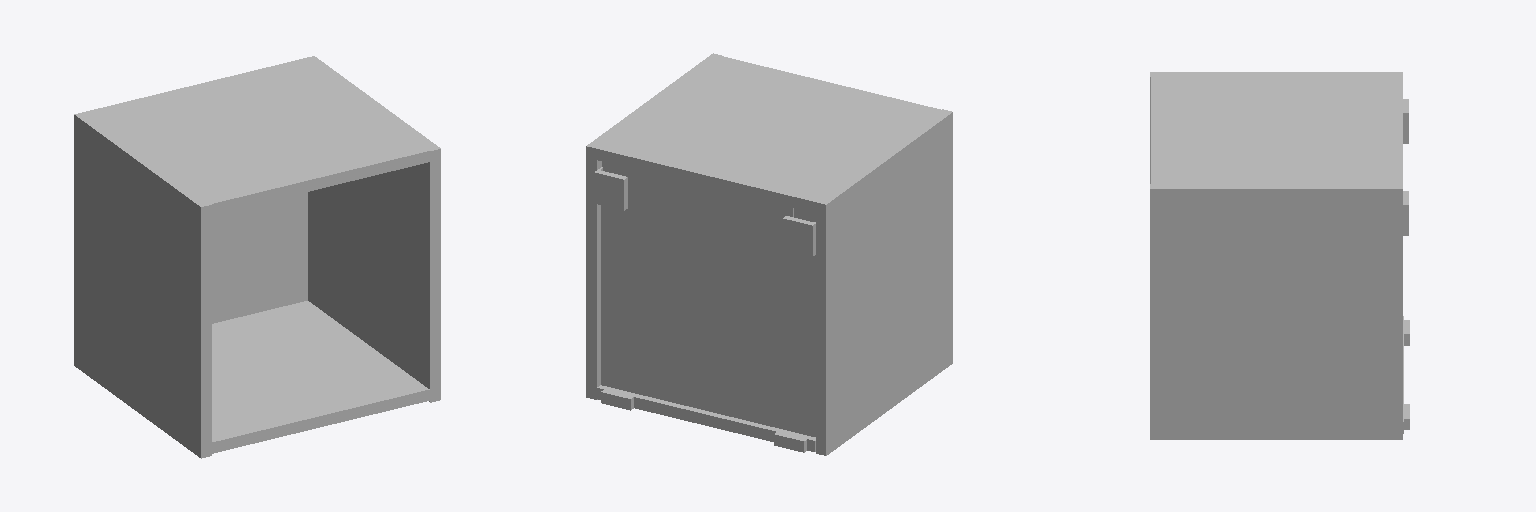
Rendered from IKEA.ART.10205529.obj.
The picture shows the model from 3 angles: view 1: azimuth 30°, elevation 25°; view 2: azimuth 150°, elevation 25°; view 3: azimuth 270°, elevation 25°; orthographic projection.
Parts seen in each view (by area): view 1: model_model.002; view 2: model_model.002; view 3: model_model.002.
Boxes of the visible parts, <box> form: model_model.002: <box>74,56,440,458</box>; model_model.002: <box>586,53,952,455</box>; model_model.002: <box>1150,72,1409,439</box>.
Size of the model in its own units: 0.4 by 0.4 by 0.376.